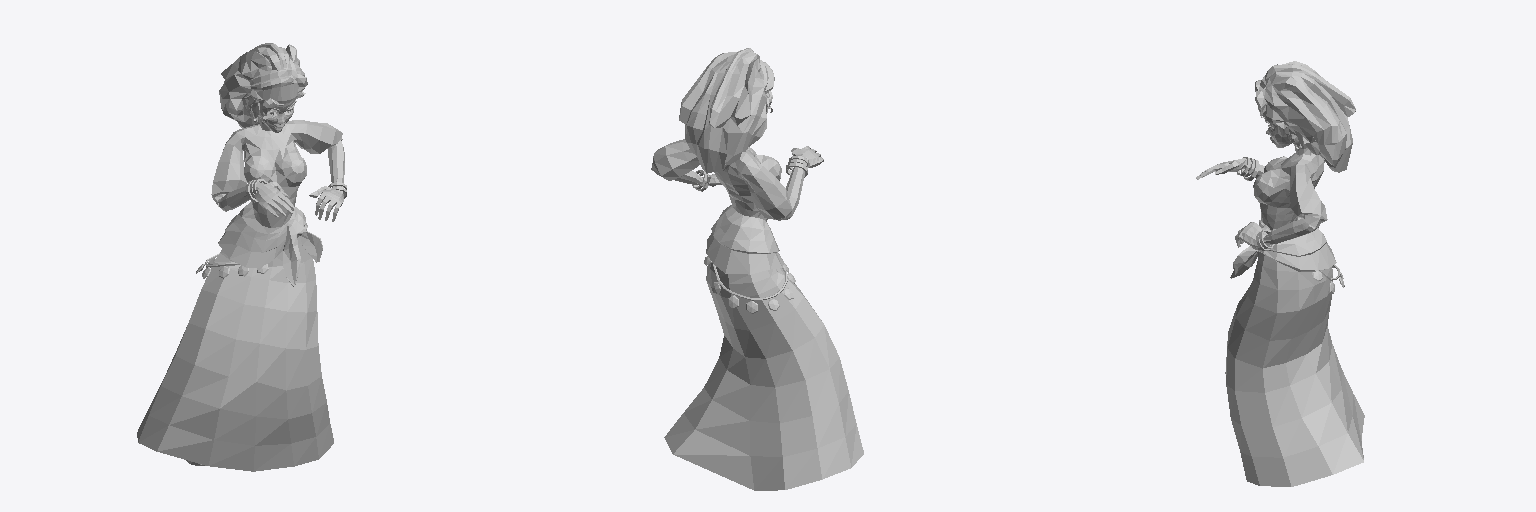
File: pose089.obj
The picture shows the model from 3 angles: view 1: azimuth 30°, elevation 25°; view 2: azimuth 150°, elevation 25°; view 3: azimuth 270°, elevation 25°; orthographic projection.
Visible parts, largest first — view 1: Peasant_girl; view 2: Peasant_girl; view 3: Peasant_girl.
Part boxes in pixels (left/top/right/bottom): Peasant_girl: left=137, top=43, right=346, bottom=471; Peasant_girl: left=651, top=48, right=863, bottom=490; Peasant_girl: left=1196, top=61, right=1364, bottom=486.
Bounding box in the file's own units: 103 × 197 × 74.77.